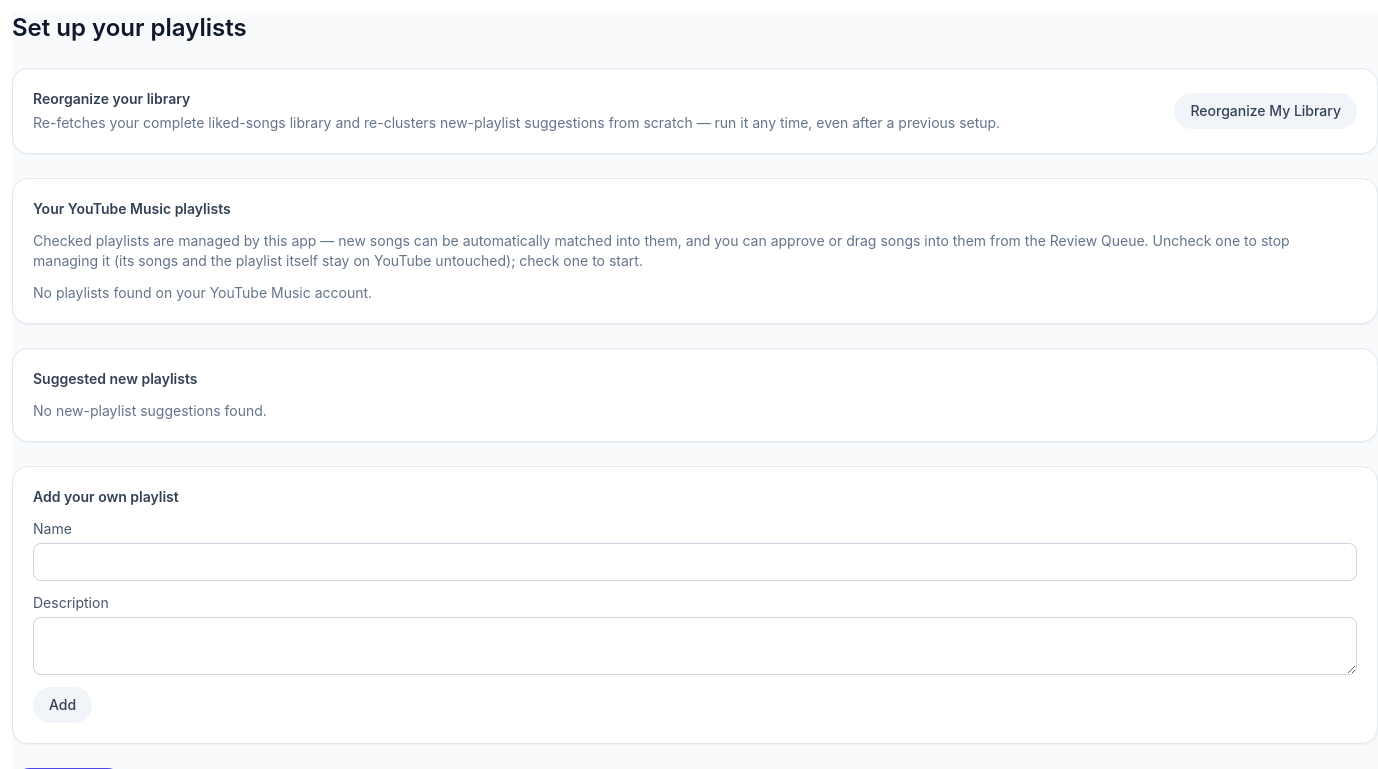
Onboarding › adds a custom playlist, checked by default, and clears the form
Expected: the text "No new-playlist suggestions found." is shown, [33,402,267,419]
Type "Road Trip" into the field labelled "Name". click: (695, 562)
box: [33,543,1357,581]
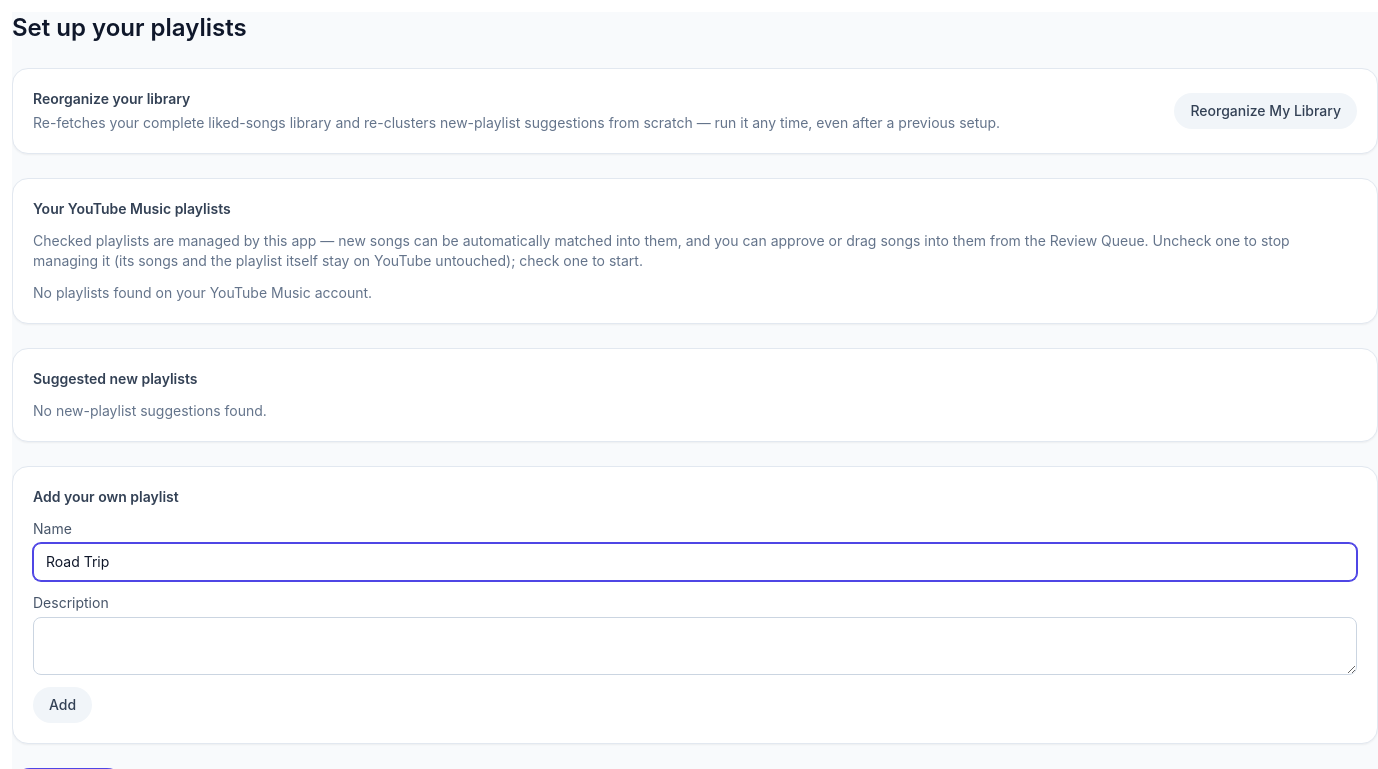
Type "for driving" into the text box labelled "Description". click: (695, 646)
box: [33,617,1357,675]
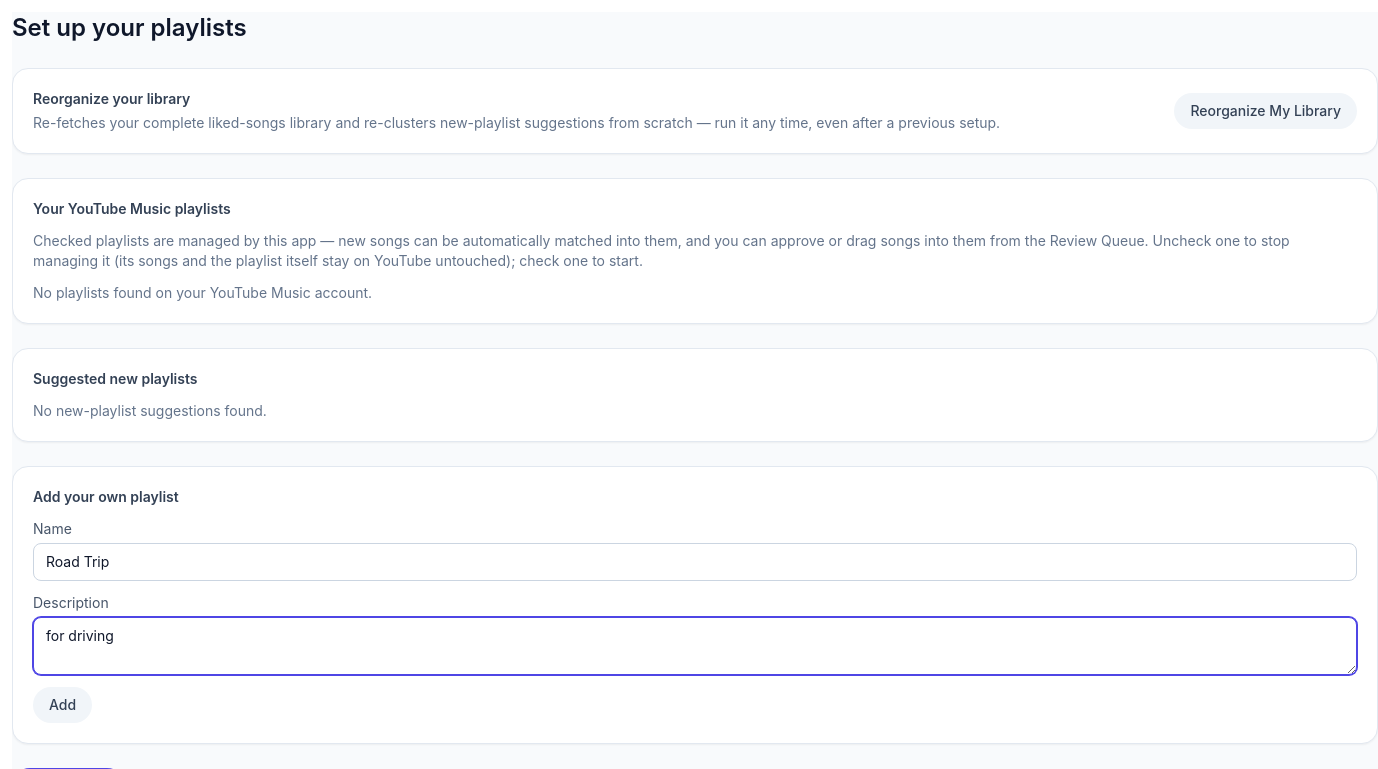
Click the button "Add". click: (63, 705)
box: [33,687,92,723]
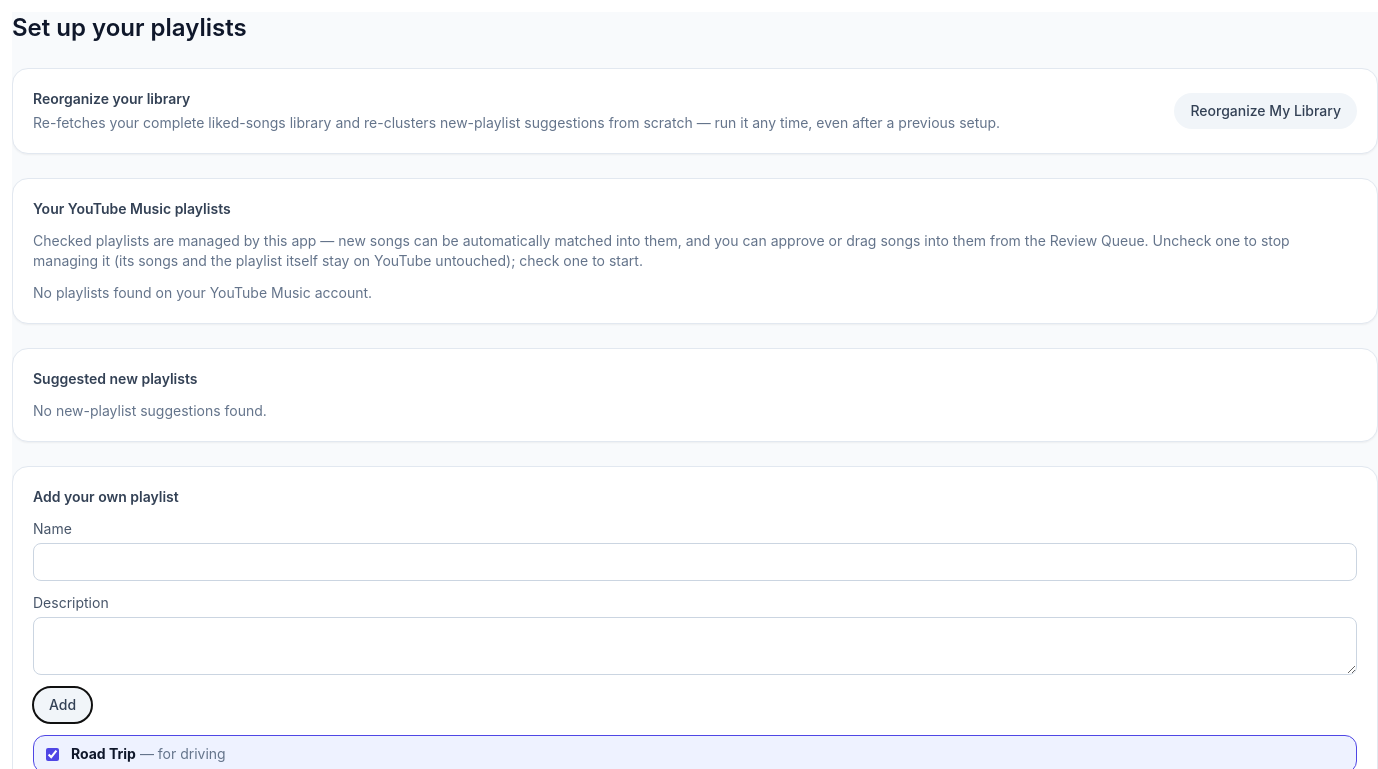
Expected: the text "Road Trip" is shown, [71,745,136,762]
Expected: the field labelled "Name" is empty, [33,543,1357,581]
Expected: the checkbox labelled "Road Trip — for driving" is checked, [46,748,59,761]
